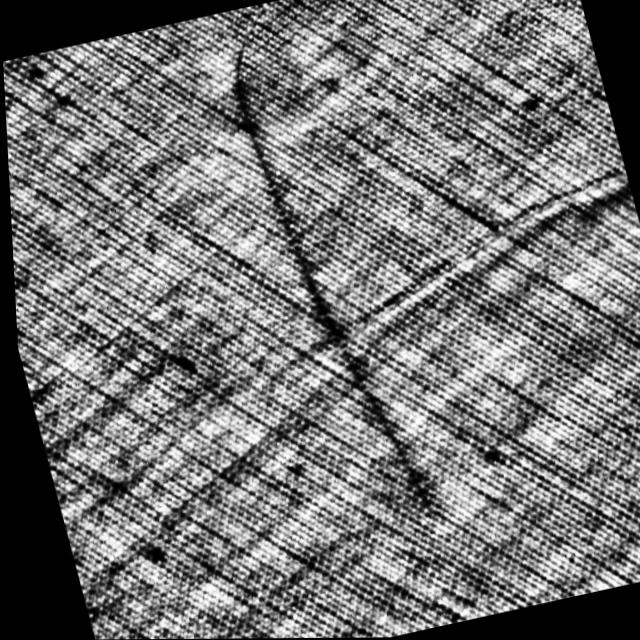Stitch: (216, 33, 436, 530), (276, 161, 640, 354)
